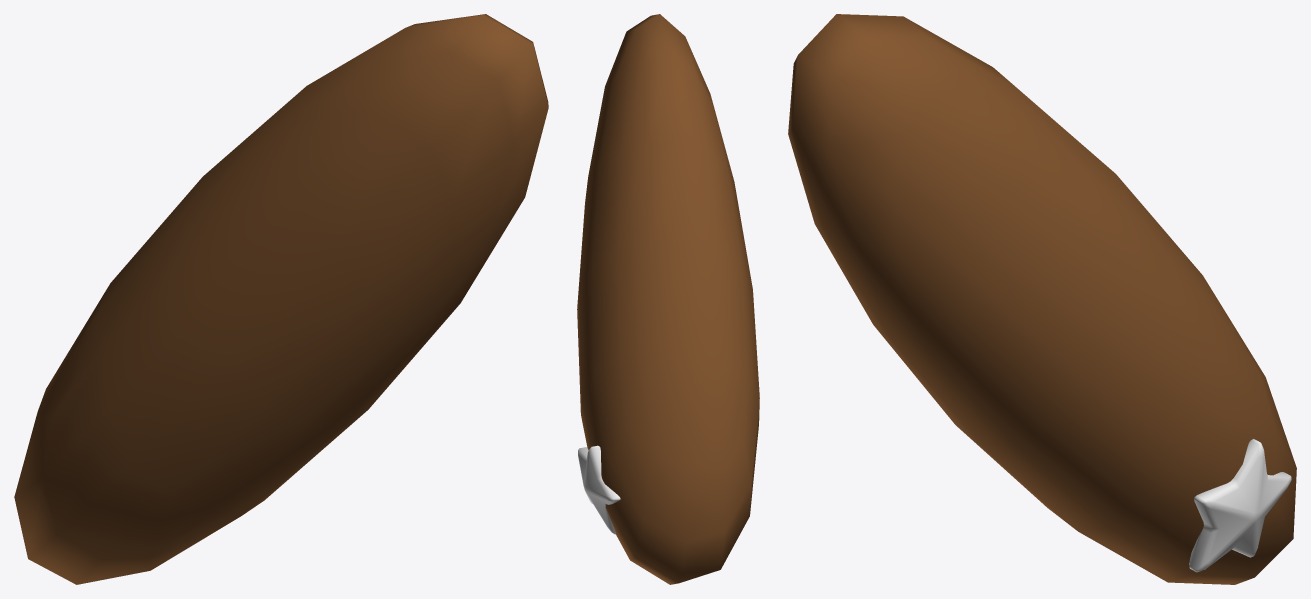
The model's file is DEFLeftArmBearBear.fbx.
The picture shows the model from 3 angles, left to right: view 1: azimuth 30°, elevation 25°; view 2: azimuth 150°, elevation 25°; view 3: azimuth 270°, elevation 25°; orthographic projection. The views are drawn at different scales.
Parts seen in each view (by area): view 1: LeftArm; view 2: LeftArm, star.002; view 3: LeftArm, star.002.
Part boxes in pixels (bbox=[...]): LeftArm: bbox=[14, 14, 548, 584]; LeftArm: bbox=[577, 14, 759, 584]; star.002: bbox=[578, 445, 620, 534]; LeftArm: bbox=[788, 14, 1296, 584]; star.002: bbox=[1189, 439, 1291, 572].
Size of the model in its own units: 48.92 by 86.55 by 59.06.
